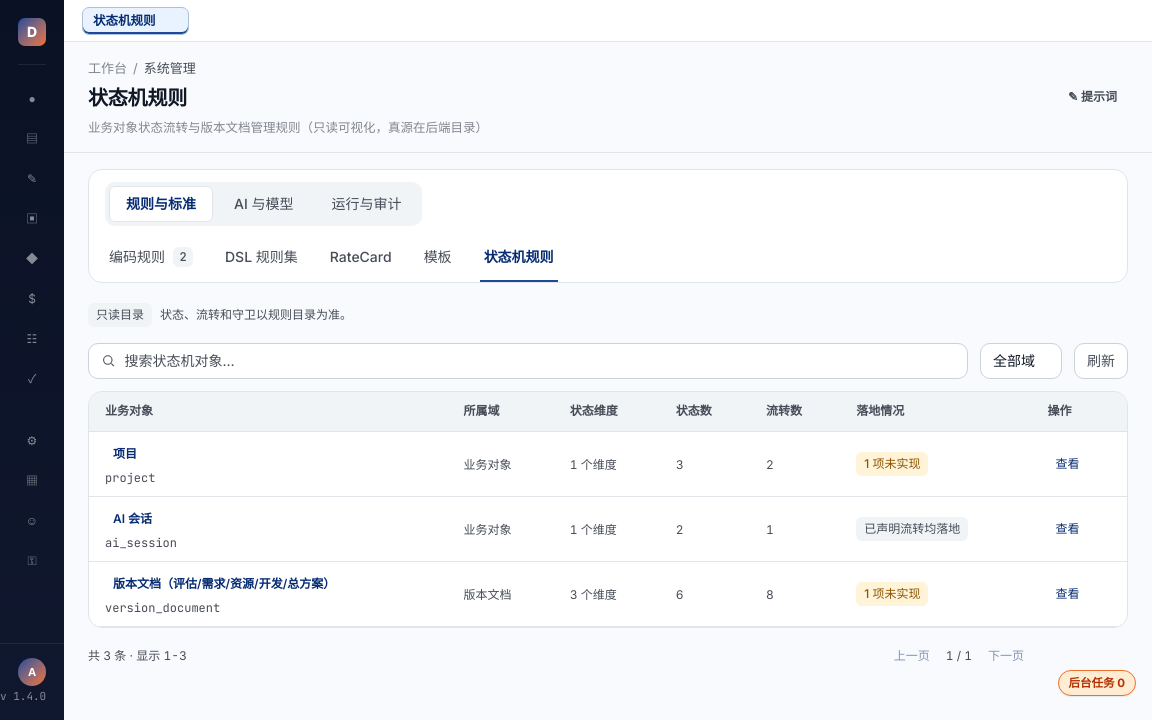
Scenario: 系统管理 · 状态机规则可视化页 › 列表真实统计未实现数量，关闭详情恢复原触发按钮焦点
The width and height of the screenshot is (1152, 720).
Expected: the text "1 项未实现" in the row of "project" is shown, [864,456,920,471]
Click the button with aria-label "查看 项目" at (1067,464), box [1047,448,1087,480]
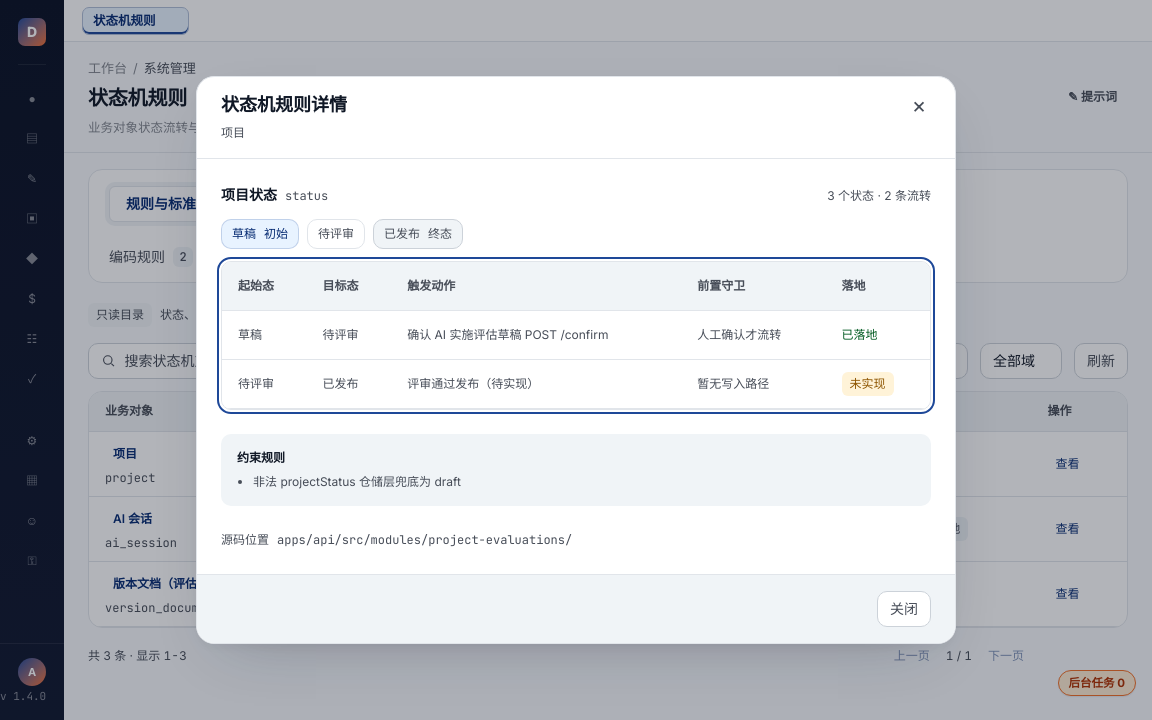
Press Escape in the dialog, box [196,76,956,644]
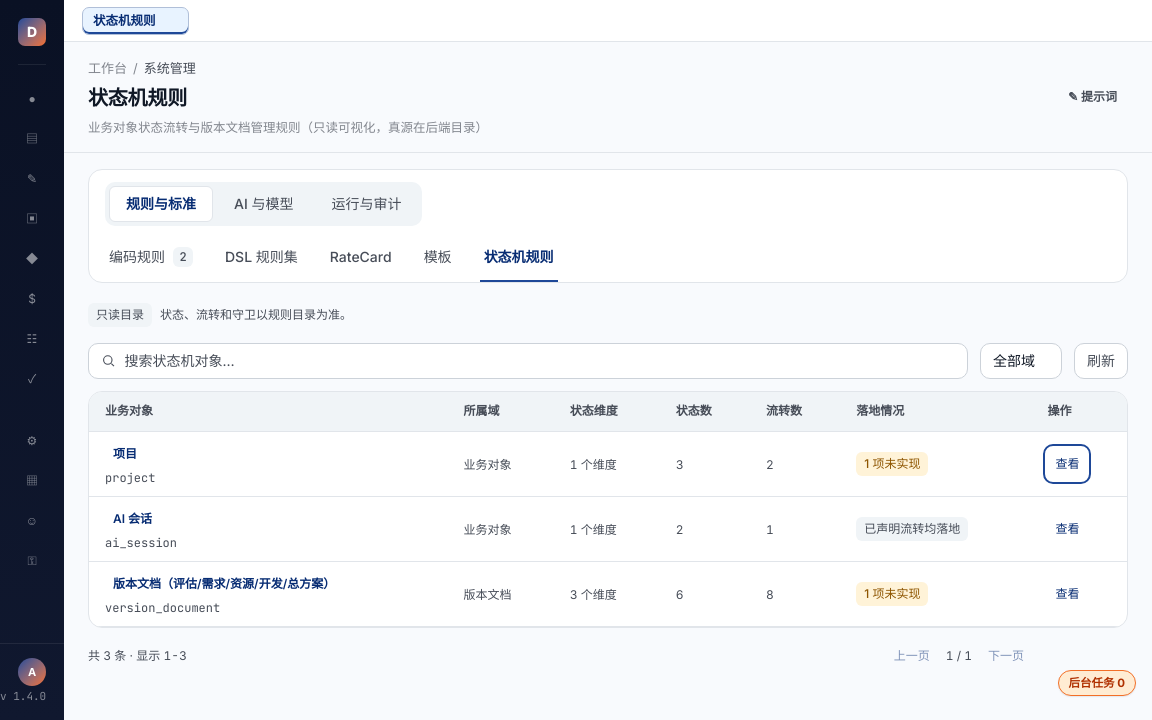
Expected: the dialog is gone
